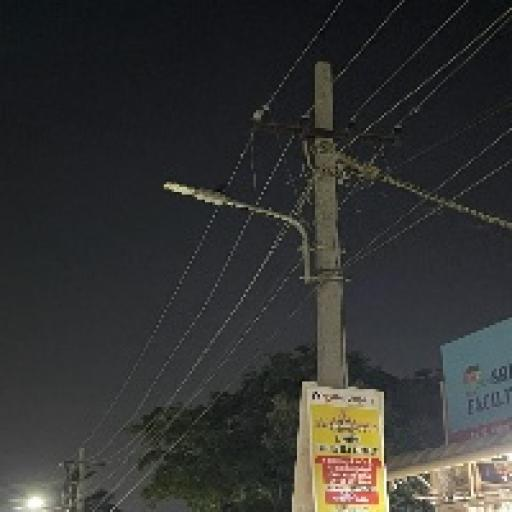Not Working: (154, 173, 234, 215)
Working: (17, 490, 45, 512)
